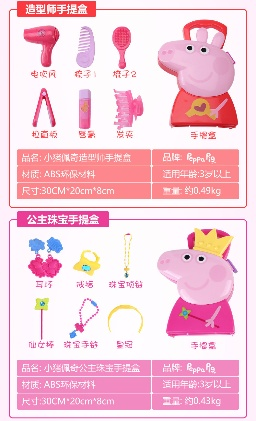Peppa: (155, 28, 239, 142), (156, 230, 241, 339)
